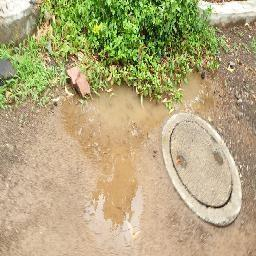water accumulation: (61, 71, 205, 232)
